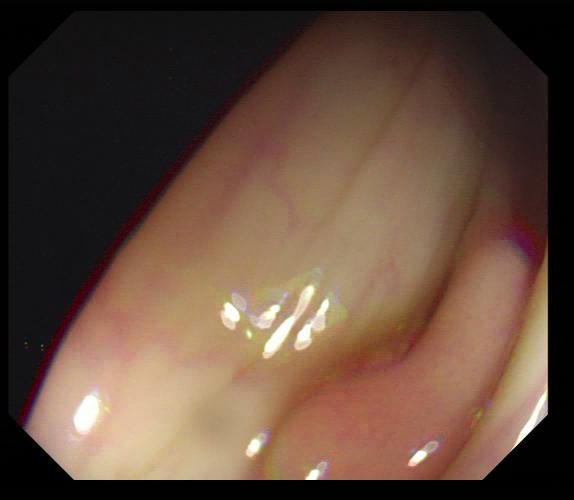polyp: (268, 232, 531, 478)
